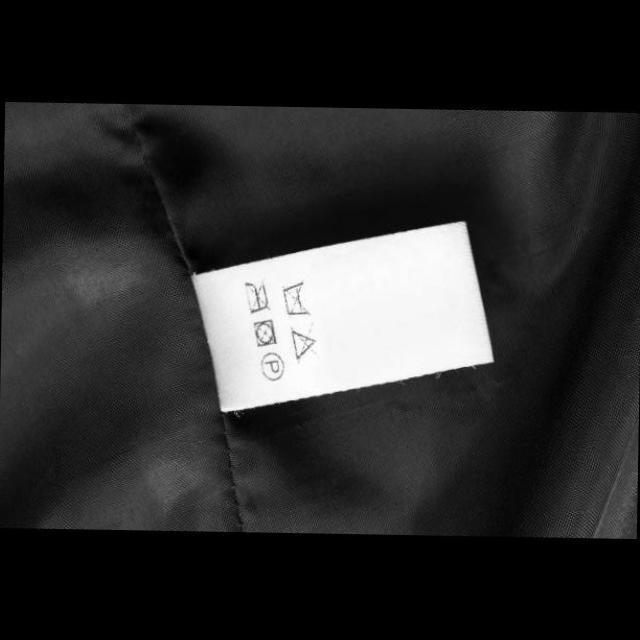DN_bleach: (284, 321, 320, 366)
DN_iron: (240, 276, 272, 318)
DN_tumble_dry: (249, 317, 279, 349)
DN_wash: (276, 278, 312, 320)
normal_dry_clean_solvents: (256, 351, 284, 384)
